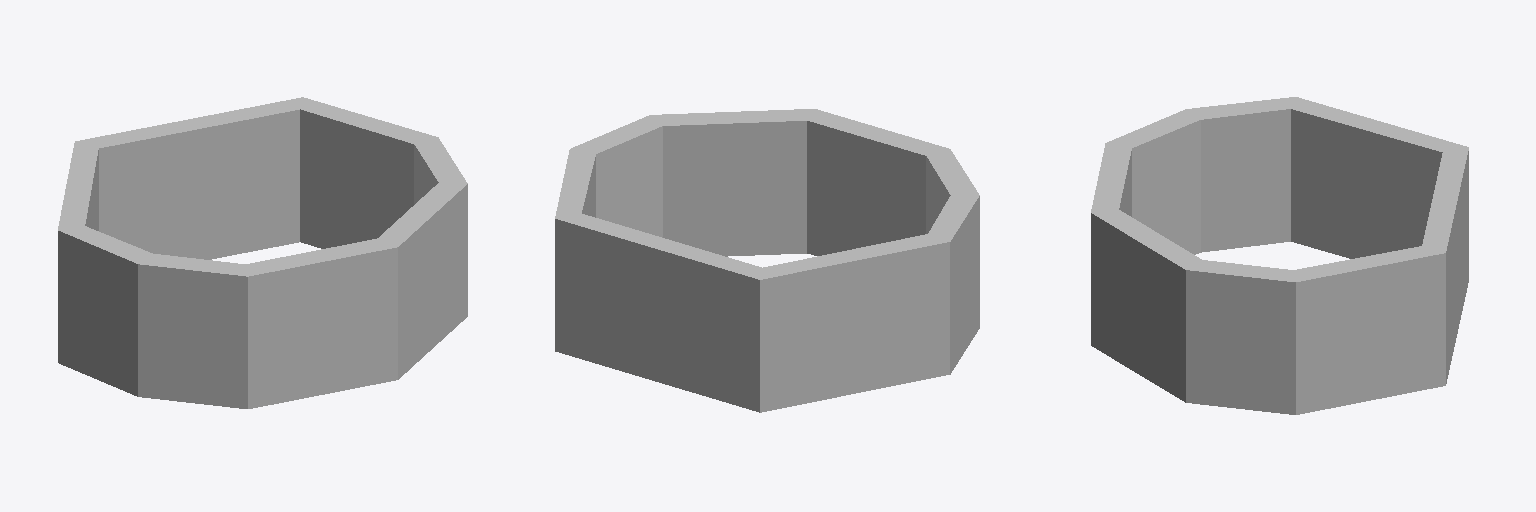
Rendered from gate6.obj.
3 views of the same model, side by side, from view 1: azimuth 30°, elevation 25°; view 2: azimuth 150°, elevation 25°; view 3: azimuth 270°, elevation 25° (orthographic).
Visible parts, largest first — view 1: Cylinder; view 2: Cylinder; view 3: Cylinder.
Boxes of the visible parts, <box> form: Cylinder: <box>58,97,467,408</box>; Cylinder: <box>555,109,979,412</box>; Cylinder: <box>1091,97,1468,414</box>.
Bounding box in the file's own units: 3 × 1 × 2.58.